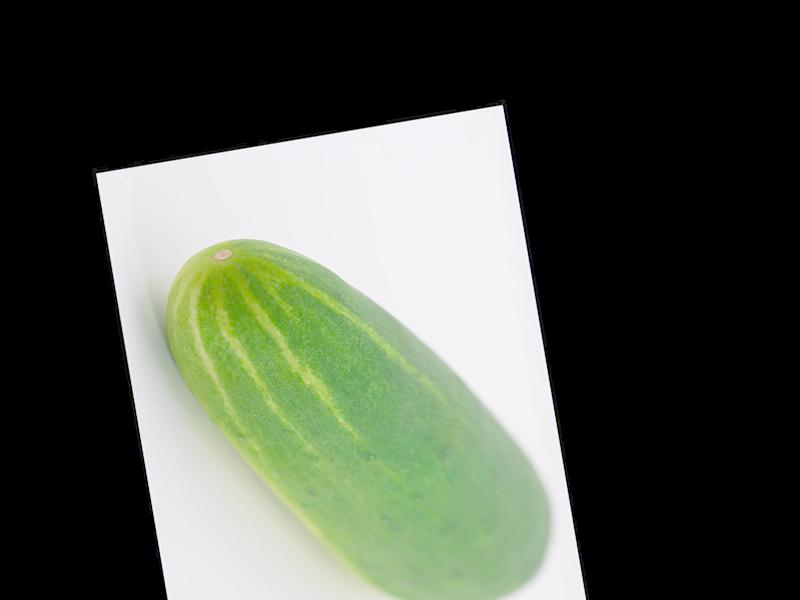Cucumber: (154, 195, 565, 600)
